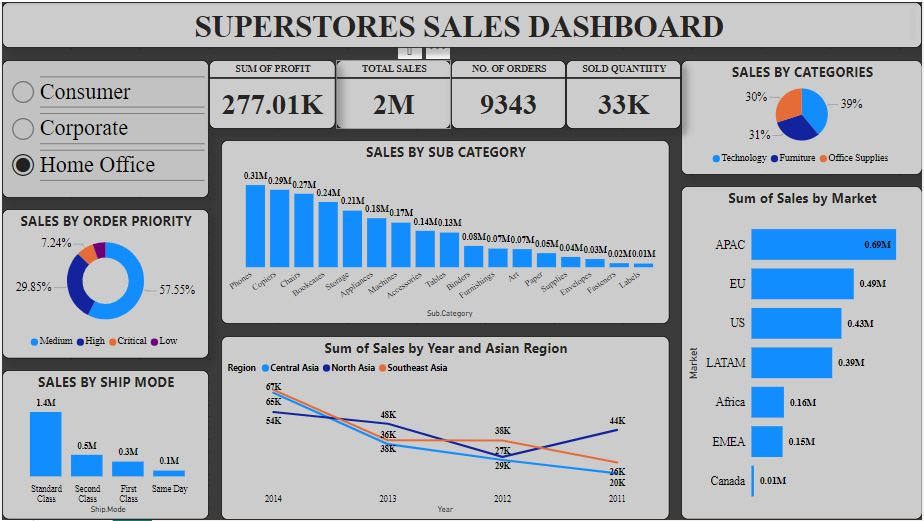

What the dashboard file says about the page in this screenshot:
{"tool":"powerbi","page":{"name":"SALES","canvas":[1280,720],"ordinal":0},"visuals":[{"type":"clusteredColumnChart","title":"SALES BY SUB CATEGORY","fields":{"Category":["superstore.Sub.Category"],"Y":["Sum(superstore.Sales)"]},"box":[304,192,624,256],"z":0},{"type":"pieChart","title":"SALES BY CATEGORIES","fields":{"Category":["superstore.Category"],"Y":["Sum(superstore.Sales)"]},"box":[944,80,336,160],"z":1000},{"type":"lineChart","title":"Sum of Sales by Year and Asian Region","fields":{"Category":["superstore.Year"],"Series":["superstore.Region"],"Y":["Sum(superstore.Sales)"]},"box":[304,464,624,256],"z":2000},{"type":"donutChart","title":"SALES BY ORDER PRIORITY","fields":{"Category":["superstore.Order.Priority"],"Y":["Sum(superstore.Sales)"]},"box":[0,288,288,208],"z":3000},{"type":"columnChart","title":"SALES BY SHIP MODE","fields":{"Category":["superstore.Ship.Mode"],"Y":["Sum(superstore.Sales)"]},"box":[0,512,288,208],"z":4000},{"type":"barChart","fields":{"Category":["superstore.Market"],"Y":["Sum(superstore.Sales)"]},"box":[944,256,336,464],"z":5000},{"type":"card","title":"TOTAL SALES","fields":{"Values":["Sum(superstore.Sales)"]},"box":[464,80,160,96],"z":6000},{"type":"card","title":"NO. OF ORDERS","fields":{"Values":["superstore.NO. OF ORDERS"]},"box":[624,80,160,96],"z":7000},{"type":"card","title":"SOLD QUANTIITY","fields":{"Values":["Sum(superstore.Quantity)"]},"box":[784,80,160,96],"z":8000},{"type":"textbox","box":[0,0,1280,64],"z":9000},{"type":"slicer","fields":{"Values":["superstore.Segment"]},"box":[0,80,288,192],"z":10000},{"type":"card","title":"SUM OF PROFIT","fields":{"Values":["Sum(superstore.Profit)"]},"box":[288,80,176,96],"z":11000}]}

Visuals, with their boxes in screenshot pixels (x1, y1, x2, y2), scaled from the page's 1280x720 canvas onto the 924x521 screenshot:
"SALES BY SUB CATEGORY" clusteredColumnChart: (219,139,670,324)
"SALES BY CATEGORIES" pieChart: (681,58,923,174)
"Sum of Sales by Year and Asian Region" lineChart: (219,336,670,520)
"SALES BY ORDER PRIORITY" donutChart: (0,208,208,359)
"SALES BY SHIP MODE" columnChart: (0,370,208,520)
barChart - superstore.Market x Sum(superstore.Sales): (681,185,923,520)
"TOTAL SALES" card: (335,58,450,127)
"NO. OF ORDERS" card: (450,58,566,127)
"SOLD QUANTIITY" card: (566,58,681,127)
textbox: (0,0,923,46)
slicer - superstore.Segment: (0,58,208,197)
"SUM OF PROFIT" card: (208,58,335,127)
